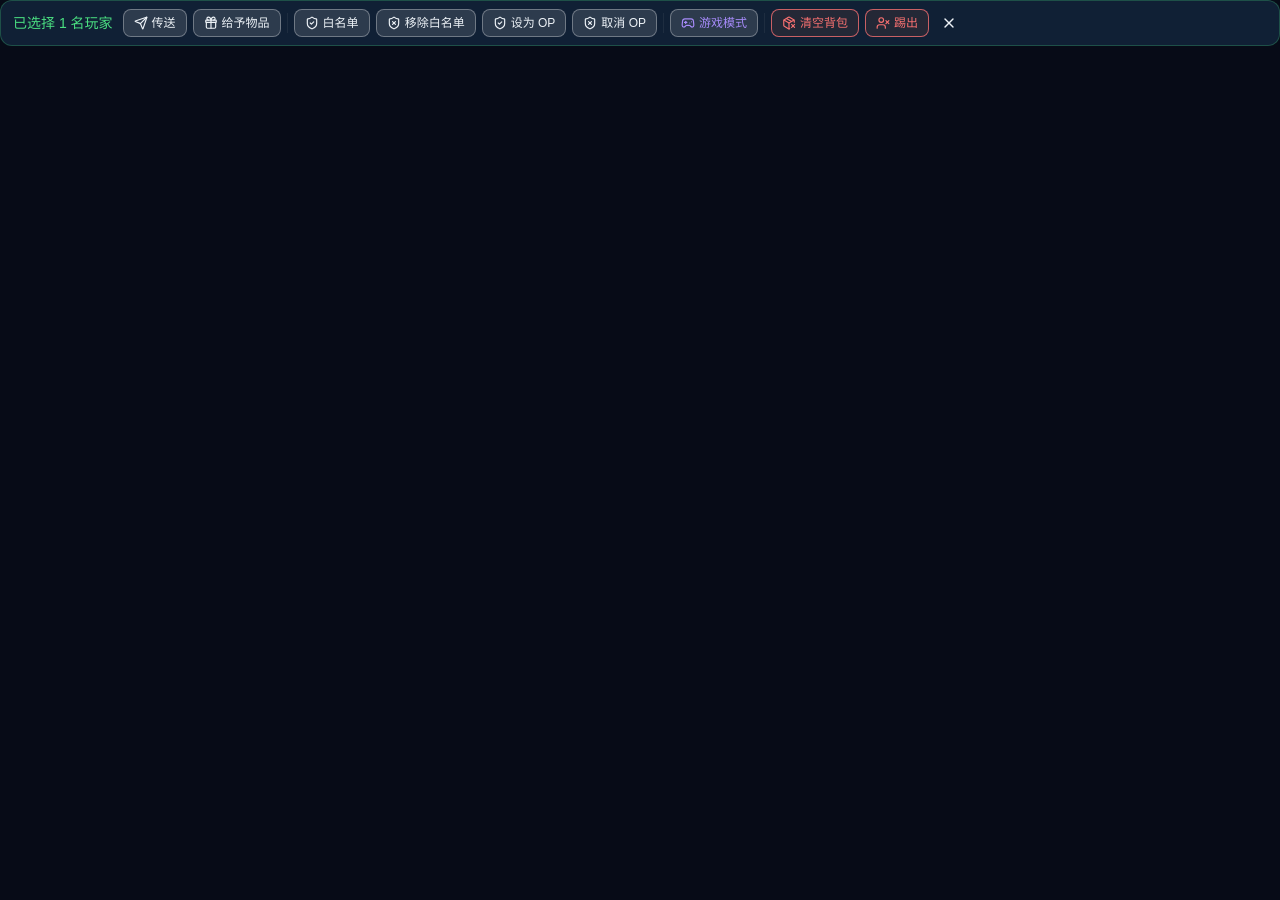
BatchBar › 清空背包：不可逆 → 确认 + 危险警告文案 + clear 命令；个体失败走 warning 且带失败详情，无撤销
The width and height of the screenshot is (1280, 900).
Click the button "清空背包". click: click(815, 23)
box: [771,9,859,37]
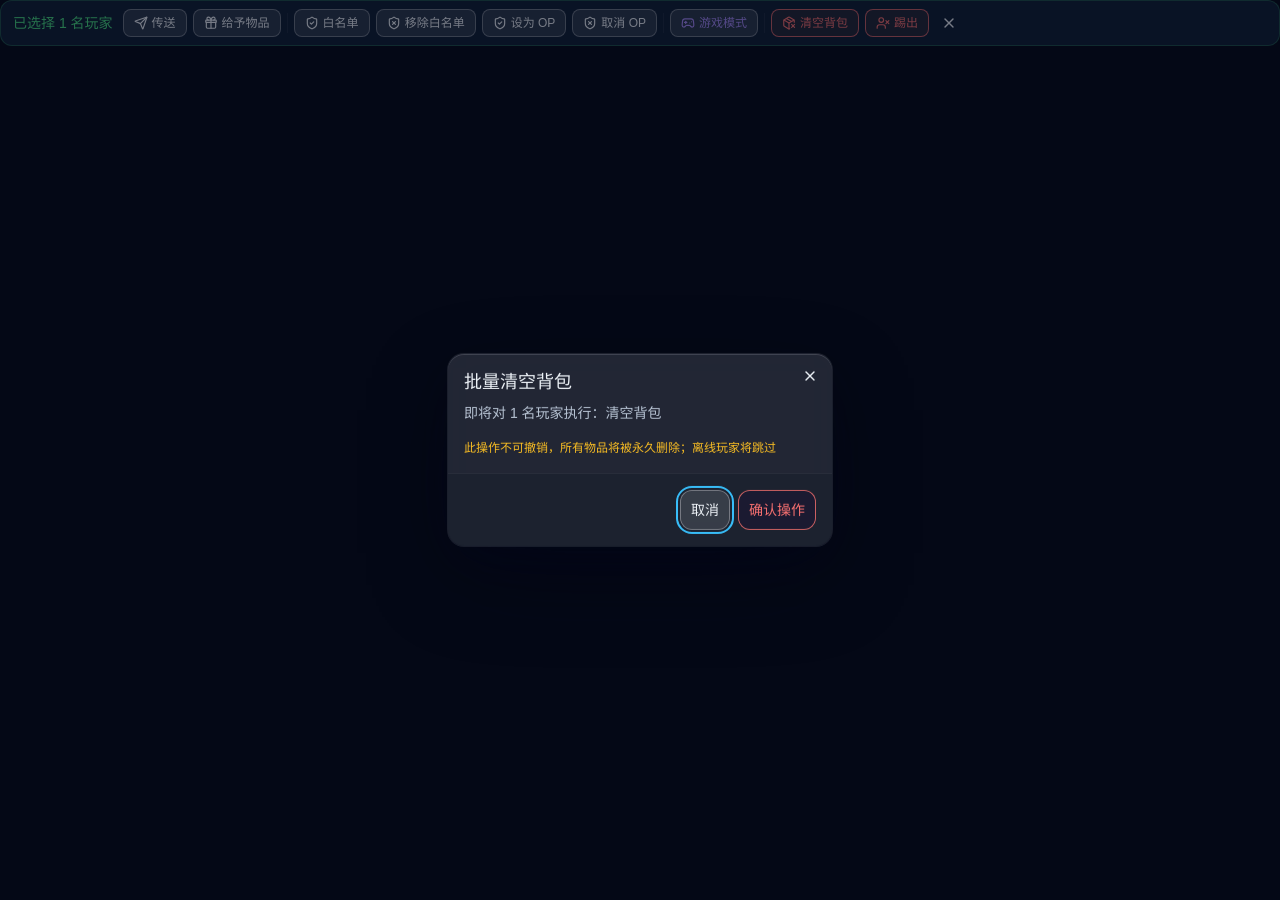
Result: the heading "批量清空背包" is shown at [464,372,572,392]
Result: the text "此操作不可撤销，所有物品将被永久删除；离线玩家将跳过" is shown at [464,439,816,457]
Click the button "确认操作". click: click(777, 510)
box: [738,490,816,530]
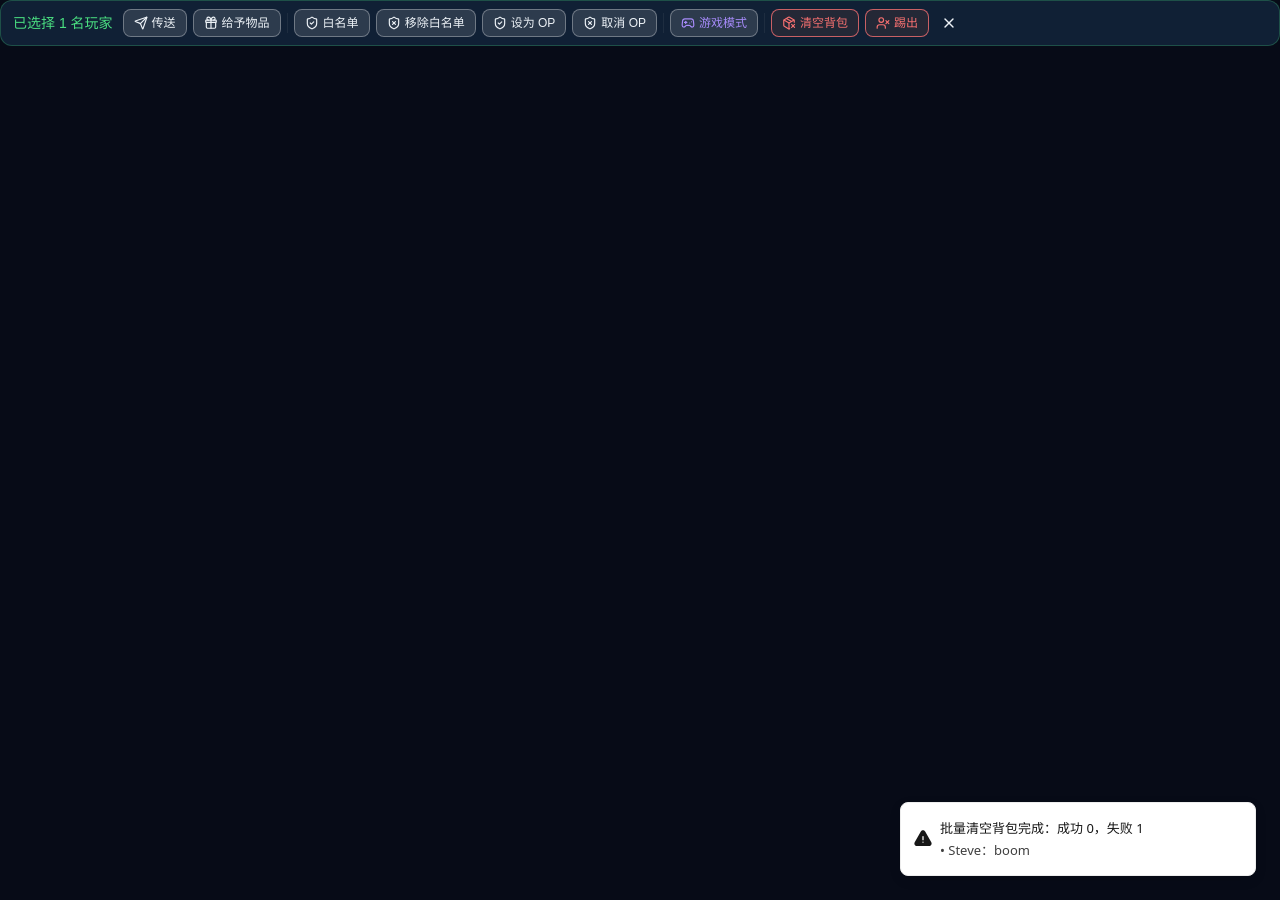
Result: the text "批量清空背包完成：成功 0，失败 1" is shown at [940,819,1144,839]
Result: the text "• Steve：boom" is shown at [940,841,1030,859]
Result: the text "撤销" is gone
